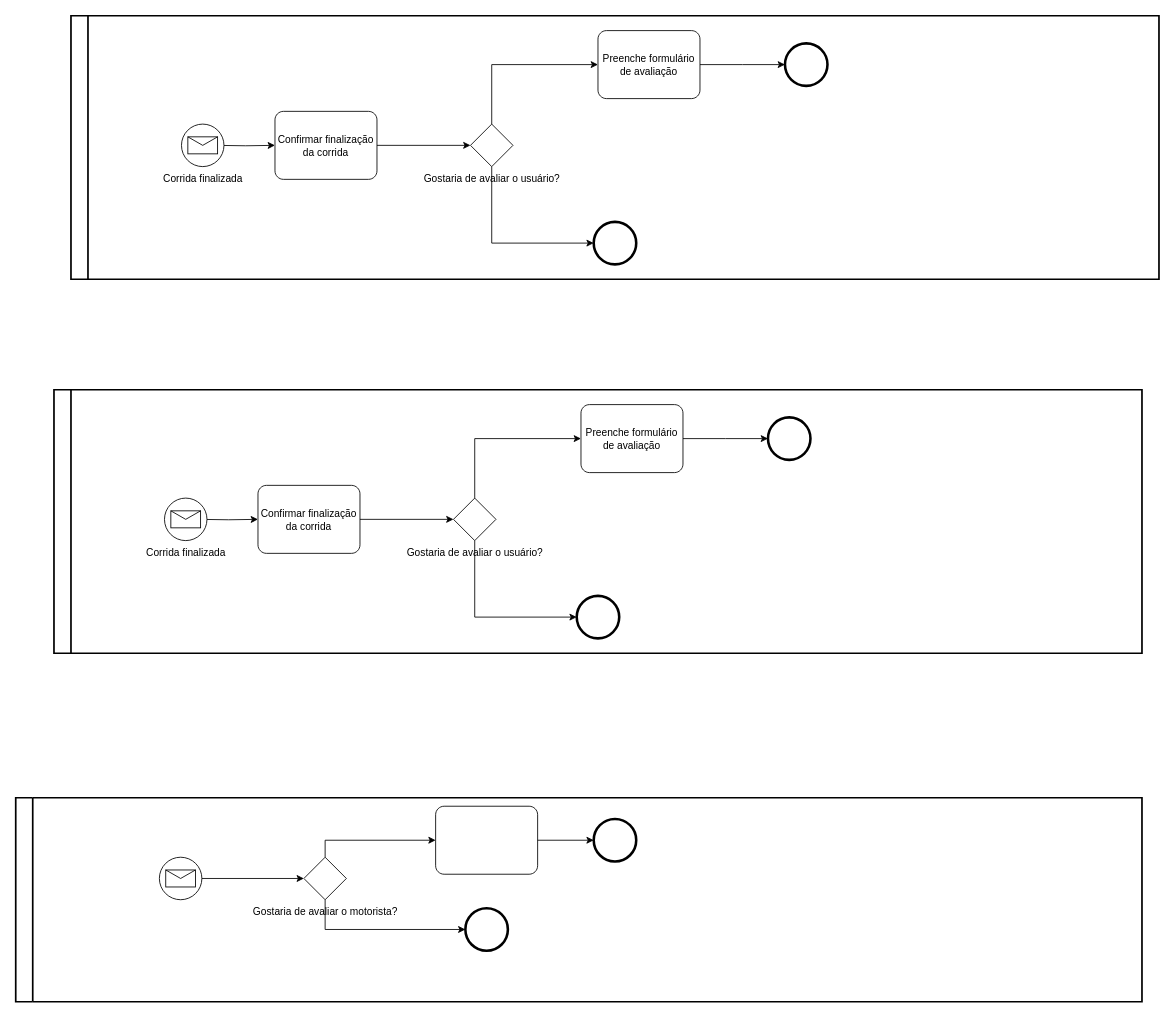
This 1174x1017 diagram has some shape labels left out. The box of each missing label's shape, as (x1, y1, x2, y2) in pixels:
Preencher o formulário de avaliação: (435, 805, 538, 874)
Status Finalizado: (159, 856, 202, 900)
